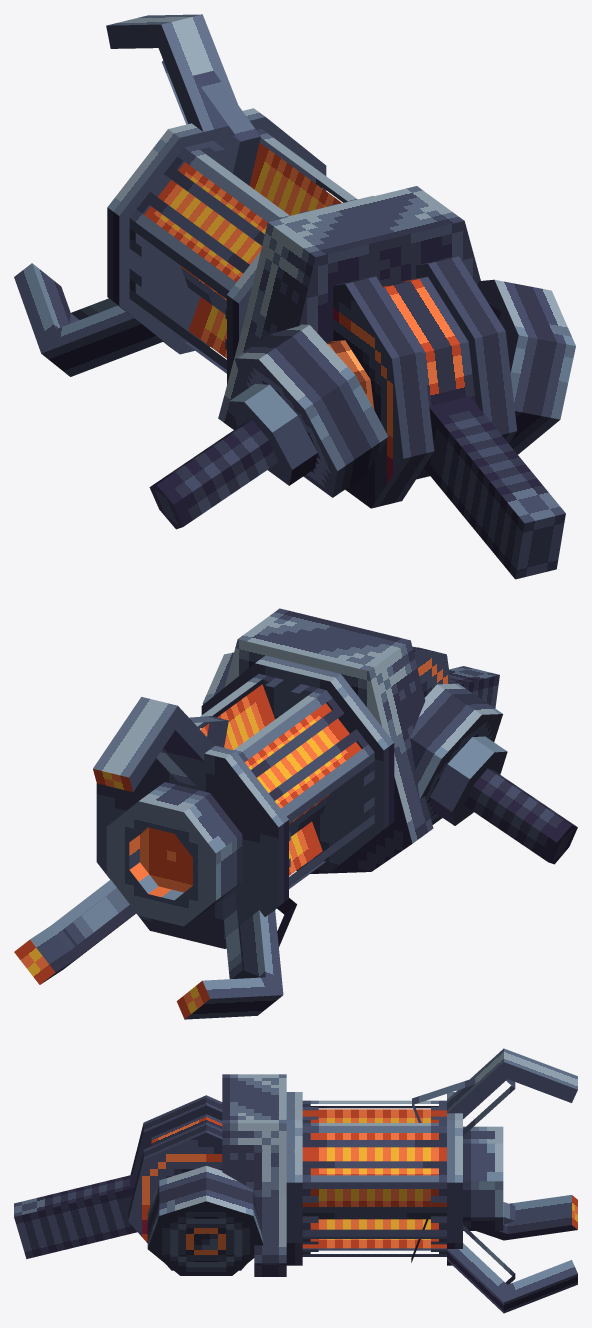
The picture shows the model from 3 angles, top to bottom: view 1: azimuth 30°, elevation 25°; view 2: azimuth 150°, elevation 25°; view 3: azimuth 270°, elevation 25°; orthographic projection. The views are drawn at different scales.
Visible parts, largest first — view 1: cylinder (×10), cuboid (×2), cube (×4), plane; view 2: cylinder (×10), cuboid (×2), cube (×6), plane (×3); view 3: cylinder (×8), cuboid (×2), cube (×5), plane (×3).
Part boxes in pixels (box(x1,y1,x2,y2)): cylinder (×10): box(107, 108, 575, 529); cuboid (×2): box(218, 186, 565, 579); cube (×4): box(14, 14, 237, 376); plane: box(193, 71, 260, 185); cylinder (×10): box(96, 646, 577, 948); cuboid (×2): box(224, 608, 499, 873); cube (×6): box(14, 697, 283, 1019); plane (×3): box(63, 716, 258, 979); cylinder (×8): box(128, 1092, 503, 1275); cuboid (×2): box(14, 1074, 286, 1276); cube (×5): box(447, 1048, 577, 1313); plane (×3): box(412, 1078, 515, 1284).
Bounding box in the file's own units: 1.2 × 0.9564 × 2.2.
1 material, 1 textured.
